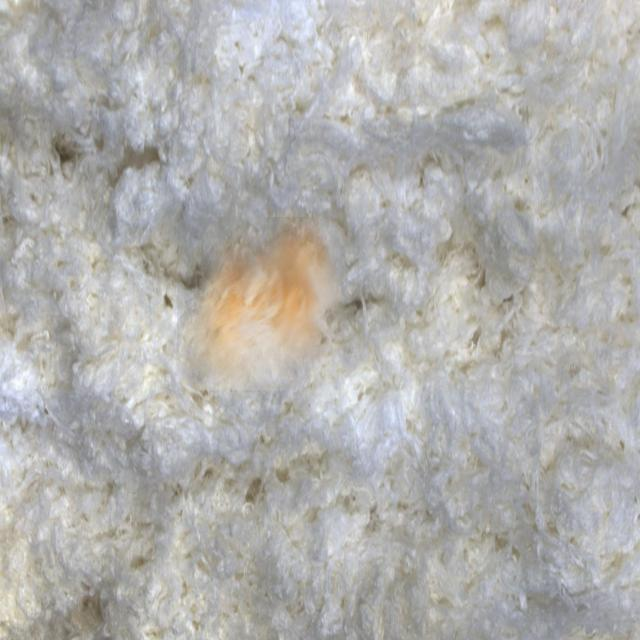dust: (178, 217, 341, 390)
